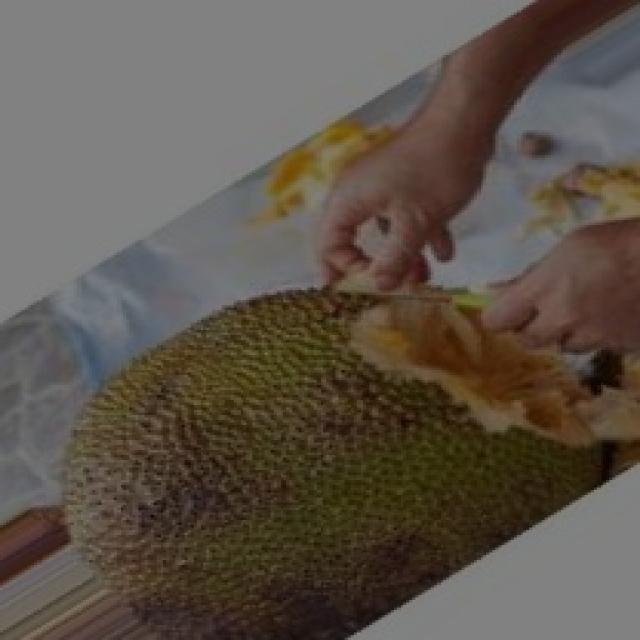Fruit: (31, 262, 443, 640), (246, 260, 640, 640)
